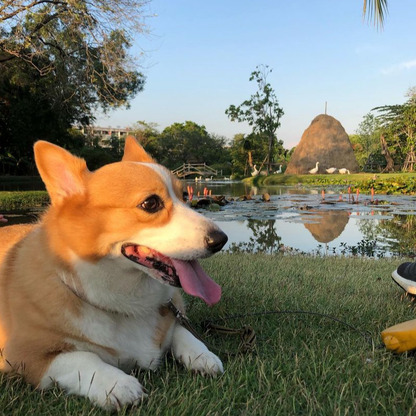Corgi: (20, 131, 250, 398)
